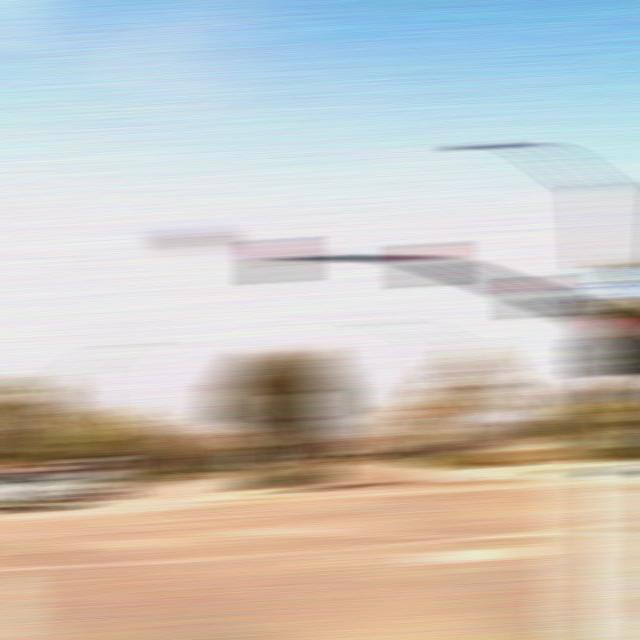speedLimit50: (277, 392, 315, 417)
